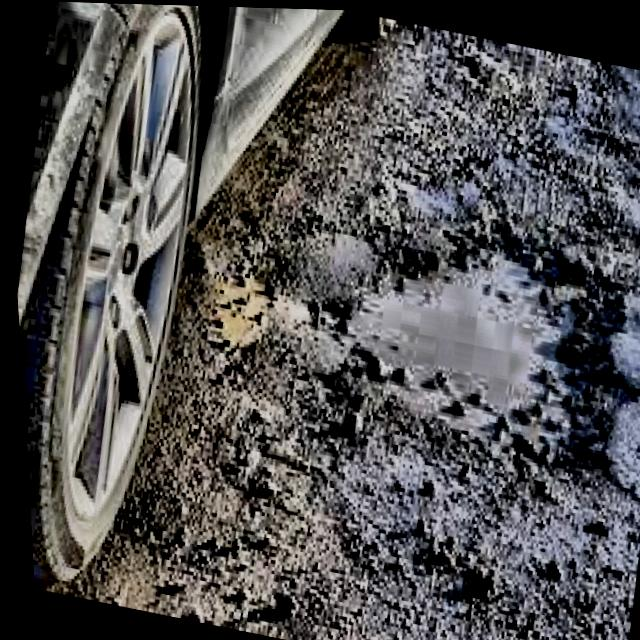Cracks: (342, 252, 568, 452)
